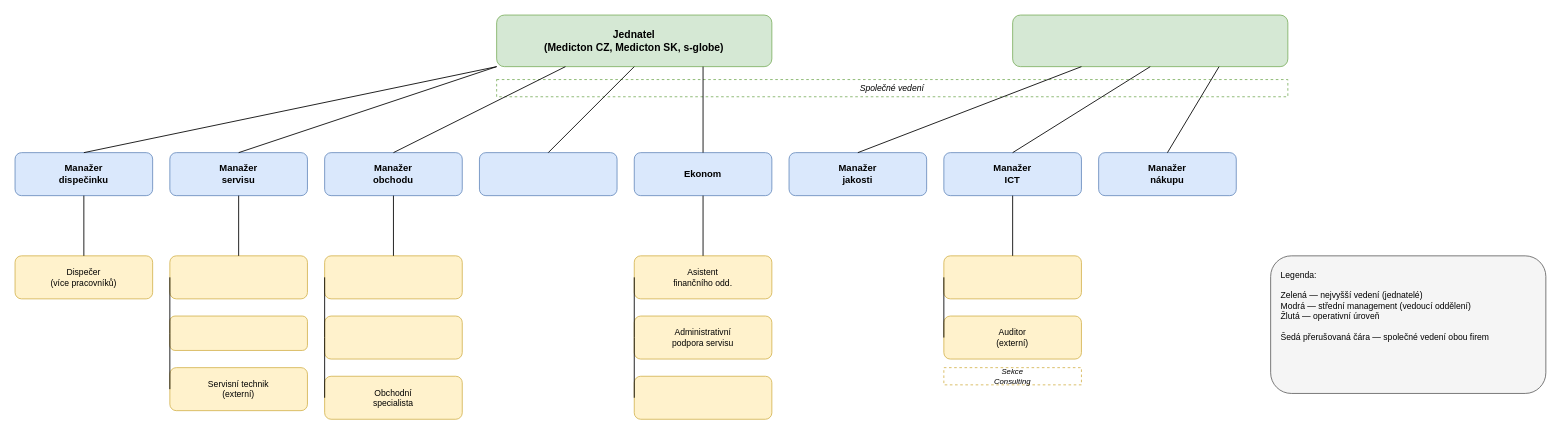
This 1561x434 diagram has some shape labels left out. Each missing label, with the centre of its shape:
"Asistent vedení společnosti" belongs at pixel 548 174.
"Datový analytik" belongs at pixel 1012 277.
"Jednatel (Techsan, Medicton SK, s-globe)" belongs at pixel 1150 40.
"Metrolog" belongs at pixel 238 332.
"Obchodní zástupce (interní / SK / ext)" belongs at pixel 393 277.
"Produktový specialista" belongs at pixel 393 337.
"Servisní technik (interní)" belongs at pixel 238 277.
"Skladník / logistik" belongs at pixel 702 397.
